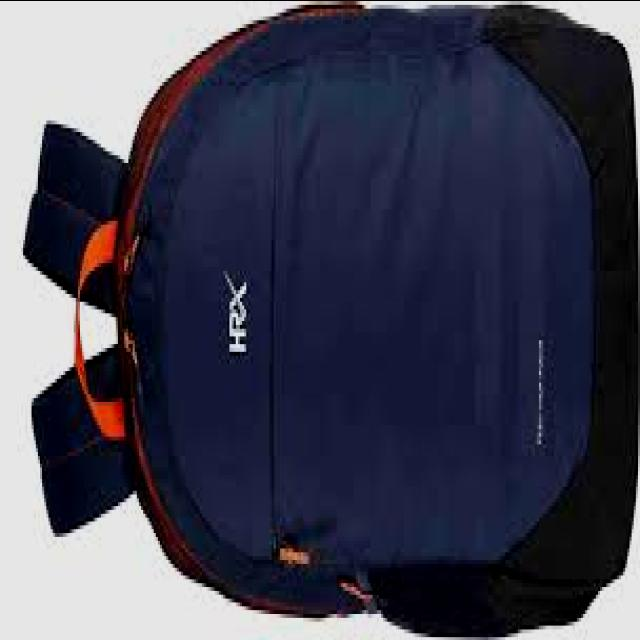backpack: (22, 5, 639, 640)
